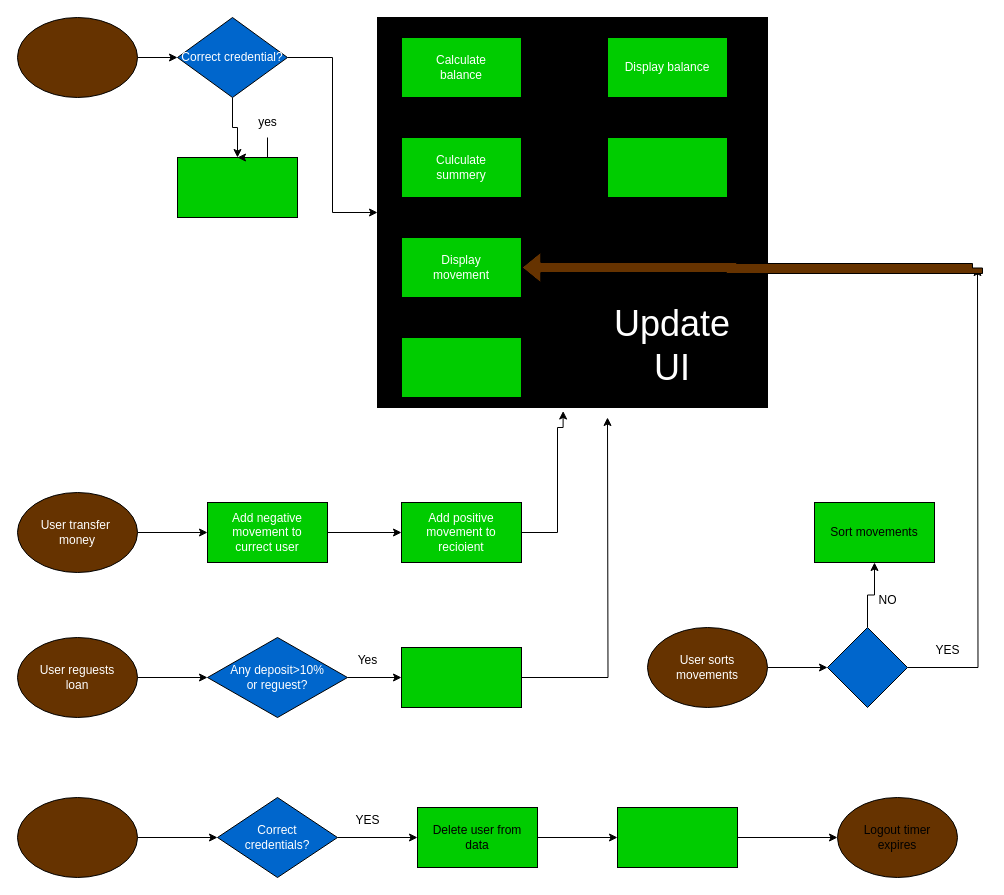
The diagram is 1004 pixels wide and 895 high, and some of its shapes have lost their labels. Here are the shapes that lost their labels. From the top down, the centre of each, then its label:
point (77, 57): Usr logs in
point (237, 187): display UI and welcoe message
point (667, 167): Display summery
point (461, 367): Start/restart logout timer
point (461, 677): Add positive movement to currect User
point (867, 667): Already sorted?
point (77, 837): User closes account
point (677, 837): Log user out (hide UI)
